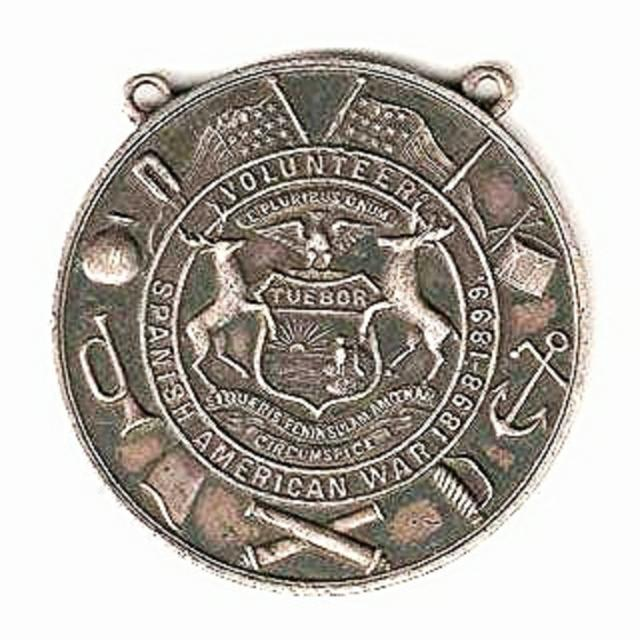Coin: (44, 42, 594, 602)
